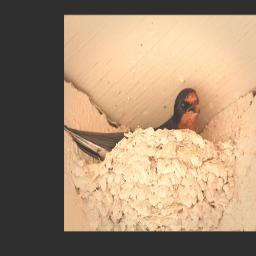Swallow: (64, 86, 202, 170)
